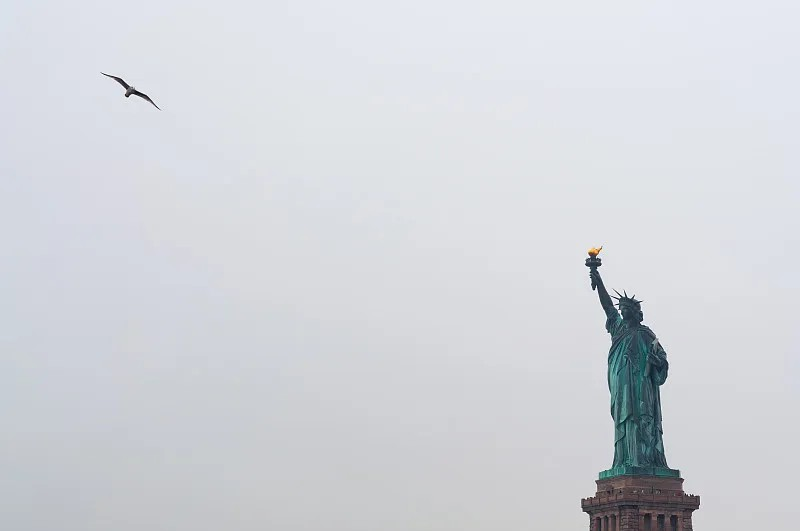SL: (581, 244, 700, 531)
